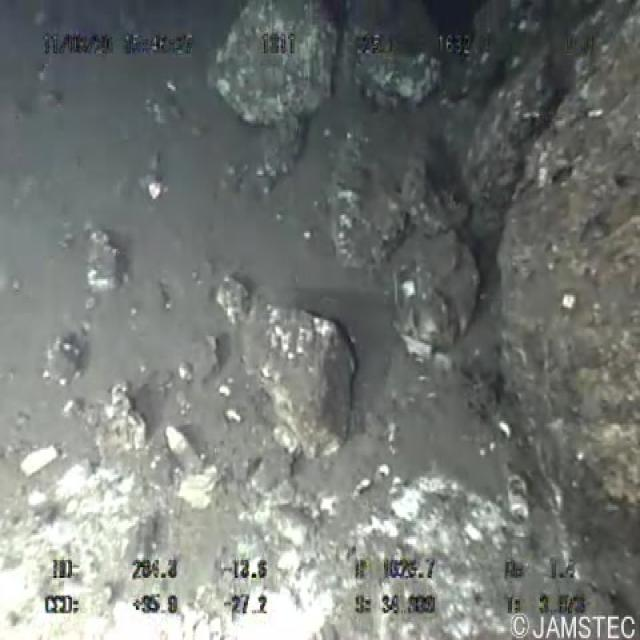plastic: (385, 274, 435, 361), (160, 416, 208, 480)
